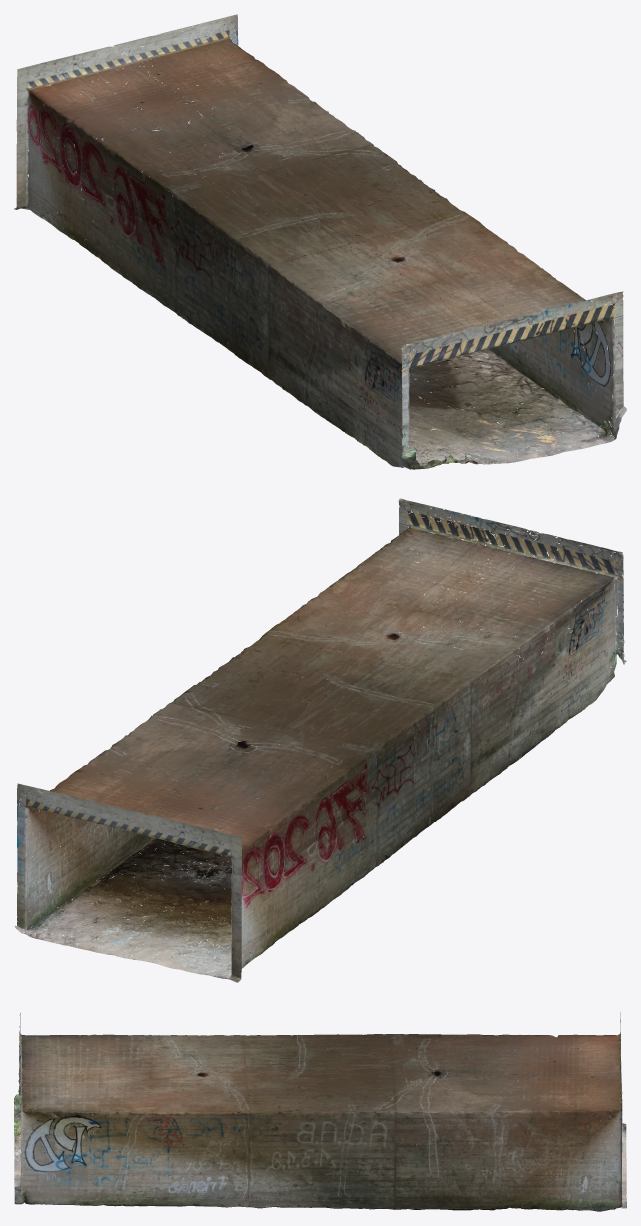
Rendered from drain.glb.
3 views of the same model, one above another, from view 1: azimuth 30°, elevation 25°; view 2: azimuth 150°, elevation 25°; view 3: azimuth 270°, elevation 25° (orthographic). The views are drawn at different scales.
Visible parts, largest first — view 1: dr_mouth, dr_seg, dr_wall2, dr_wall; view 2: dr_mouth, dr_seg, dr_wall2, dr_wall; view 3: dr_mouth, dr_seg, dr_wall, dr_lintel, dr_pier.
Boxes of the visible parts, x1,y1,x2,y2 form: dr_mouth: (14, 14, 626, 469); dr_seg: (76, 76, 563, 440); dr_wall2: (79, 154, 360, 435); dr_wall: (305, 178, 562, 386); dr_mouth: (14, 498, 626, 982); dr_seg: (76, 563, 565, 937); dr_wall2: (281, 639, 563, 924); dr_wall: (77, 637, 338, 872); dr_mouth: (14, 1012, 626, 1211); dr_seg: (95, 1034, 547, 1210); dr_wall: (99, 1131, 540, 1194); dr_lintel: (223, 1121, 416, 1191); dr_pier: (287, 1122, 351, 1190).
Bounding box in the file's own units: 2.97 × 1.92 × 8.91.
2 materials, 2 textured.
